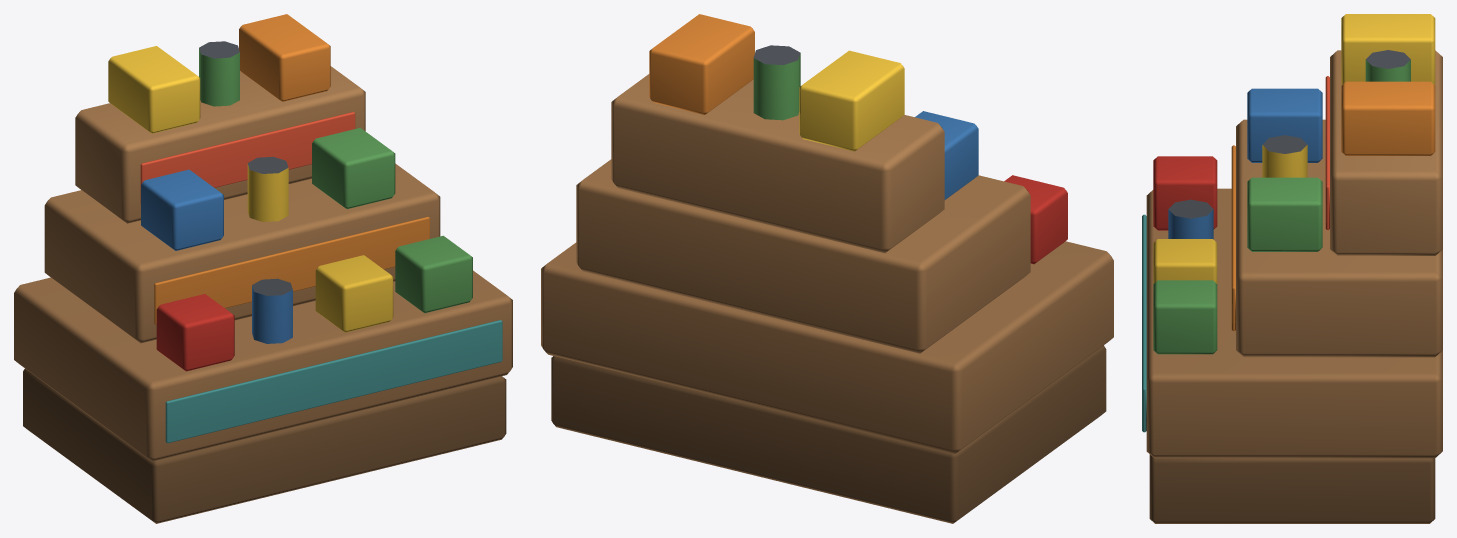
The model's file is Table_Promo_Tiered_01_Stocked.glb.
3 views of the same model, side by side, from view 1: azimuth 30°, elevation 25°; view 2: azimuth 150°, elevation 25°; view 3: azimuth 270°, elevation 25° (orthographic). The views are drawn at different scales.
Parts seen in each view (by area): view 1: SM_Table_Promo_Tiered_01_Stocked; view 2: SM_Table_Promo_Tiered_01_Stocked; view 3: SM_Table_Promo_Tiered_01_Stocked.
Boxes of the visible parts, box(x1,y1,x2,y2) form: SM_Table_Promo_Tiered_01_Stocked: box(14, 14, 512, 523); SM_Table_Promo_Tiered_01_Stocked: box(541, 14, 1113, 523); SM_Table_Promo_Tiered_01_Stocked: box(1142, 14, 1442, 523).
Size of the model in its own units: 1.2 by 1.1 by 0.8.
1 material, 1 textured.
